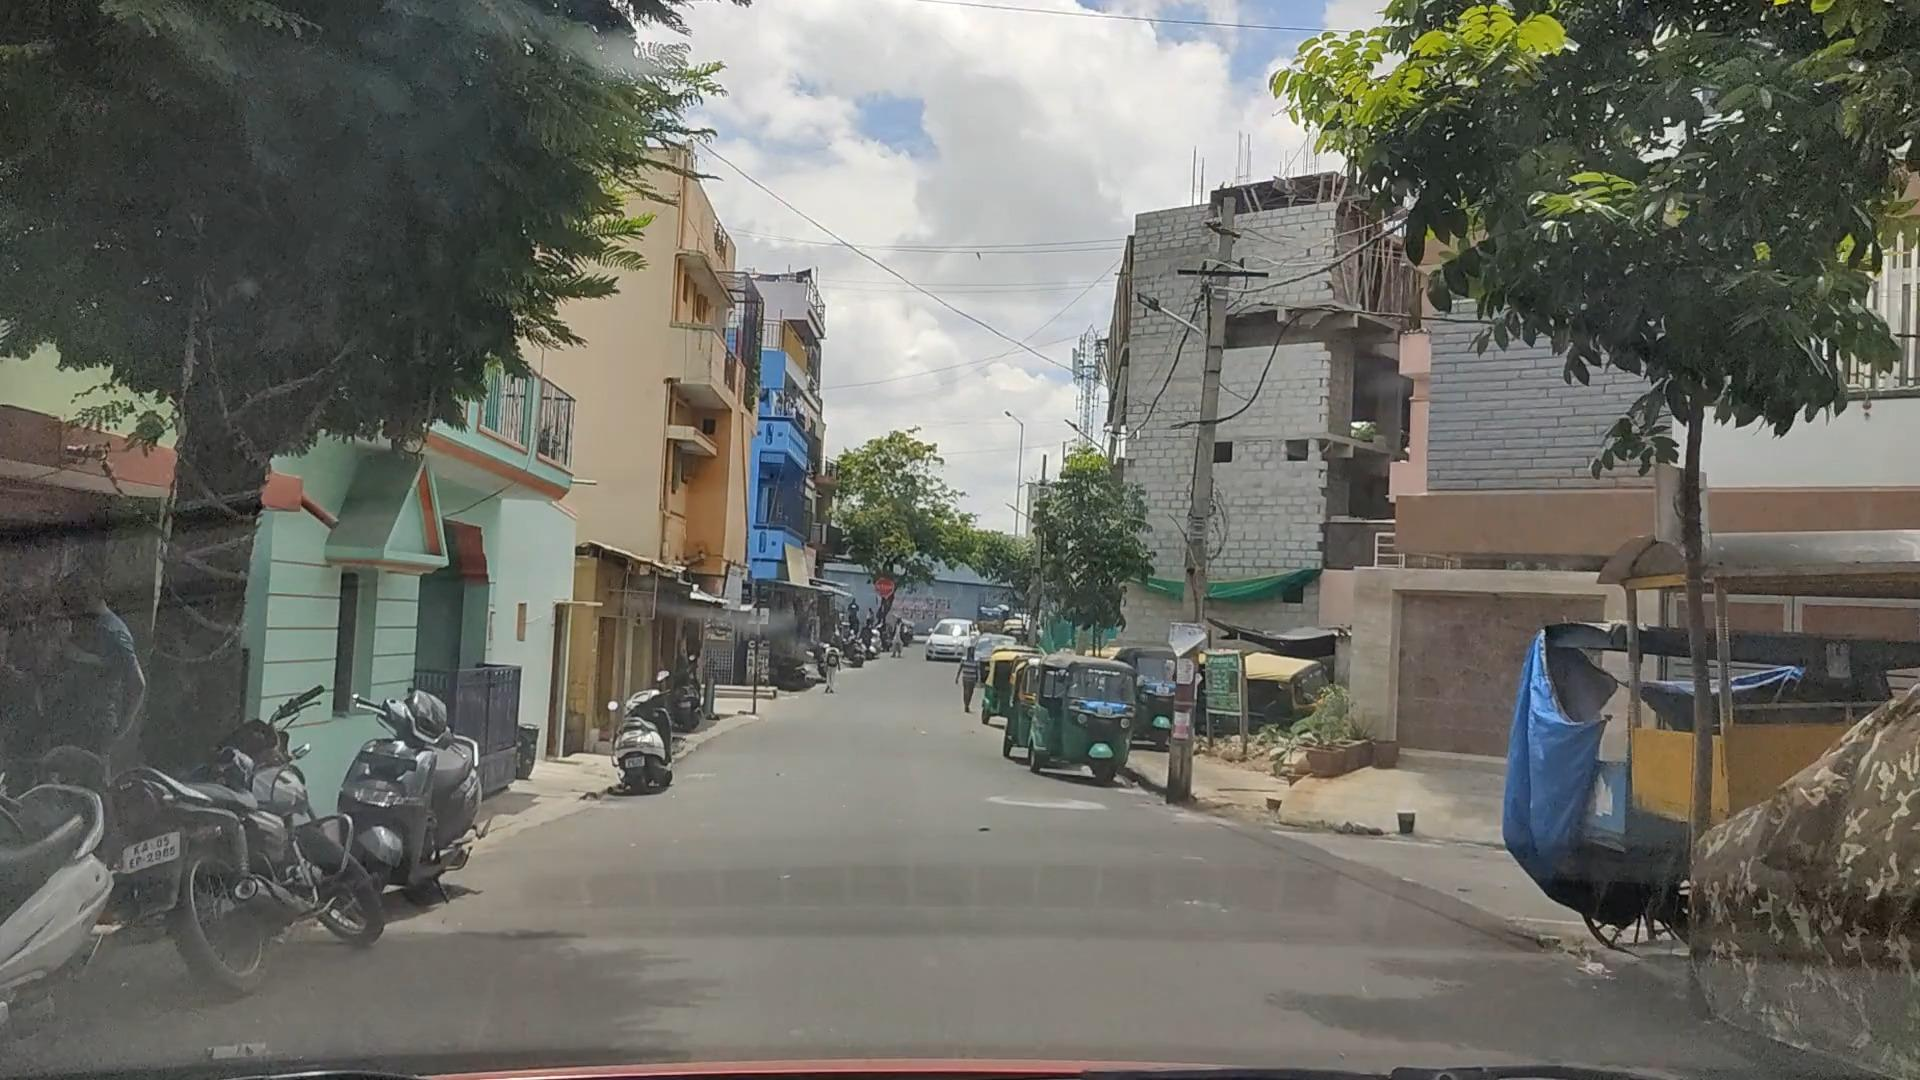LMV: (1009, 657, 1129, 774)
RoadDamages: (984, 785, 1106, 822)
